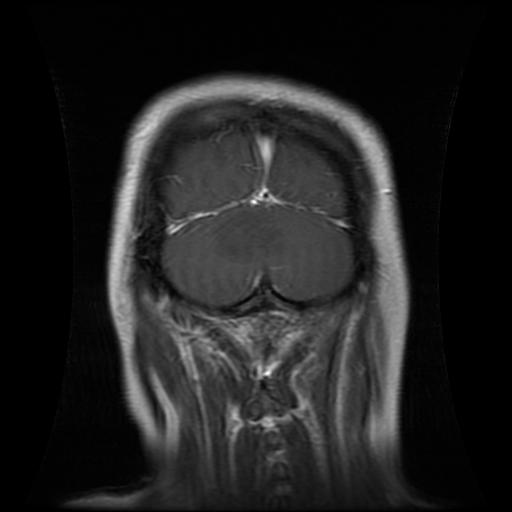Gliomia_tumour: (212, 203, 288, 263)
